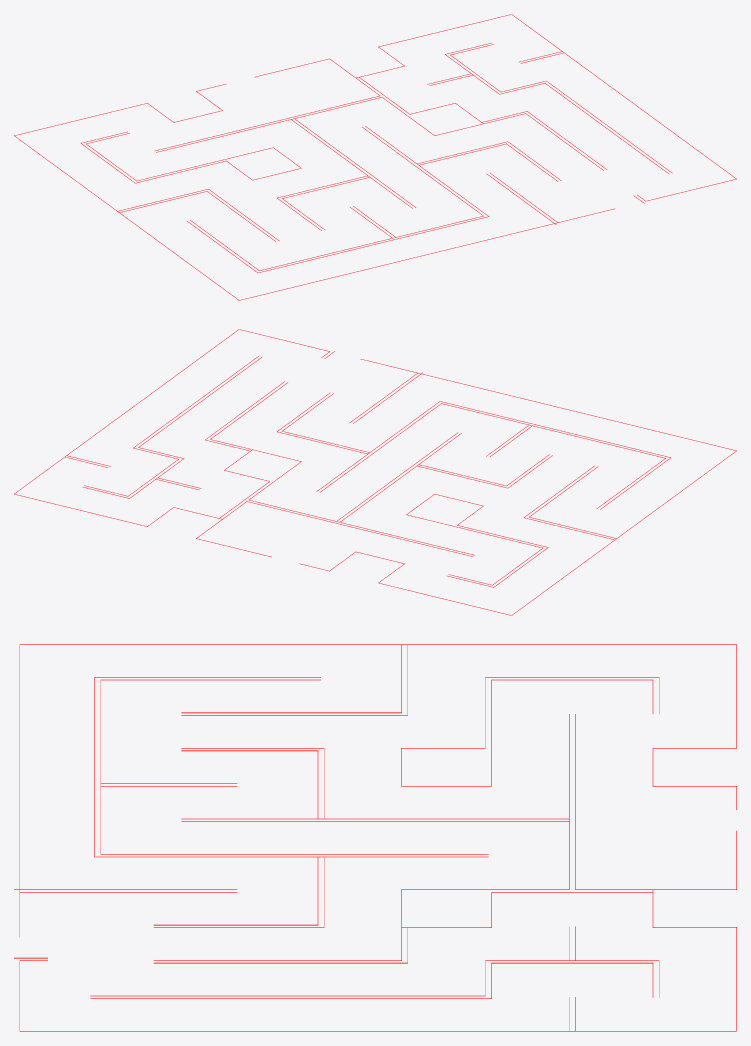
The model's file is neon.glb.
The picture shows the model from 3 angles, top to bottom: view 1: azimuth 30°, elevation 25°; view 2: azimuth 150°, elevation 25°; view 3: azimuth 270°, elevation 25°; orthographic projection. The views are drawn at different scales.
Parts seen in each view (by area): view 1: no part large enough to name; view 2: no part large enough to name; view 3: neon.055, neon.024, neon.022, neon.058, neon.040.
Boxes of the visible parts, x1=… form: neon.055: x1=90, y1=995, x2=484, y2=996; neon.024: x1=95, y1=856, x2=488, y2=857; neon.022: x1=181, y1=818, x2=568, y2=819; neon.058: x1=19, y1=1031, x2=736, y2=1031; neon.040: x1=20, y1=644, x2=736, y2=644.
Size of the model in its own units: 16.4 by 0.01 by 12.95.
